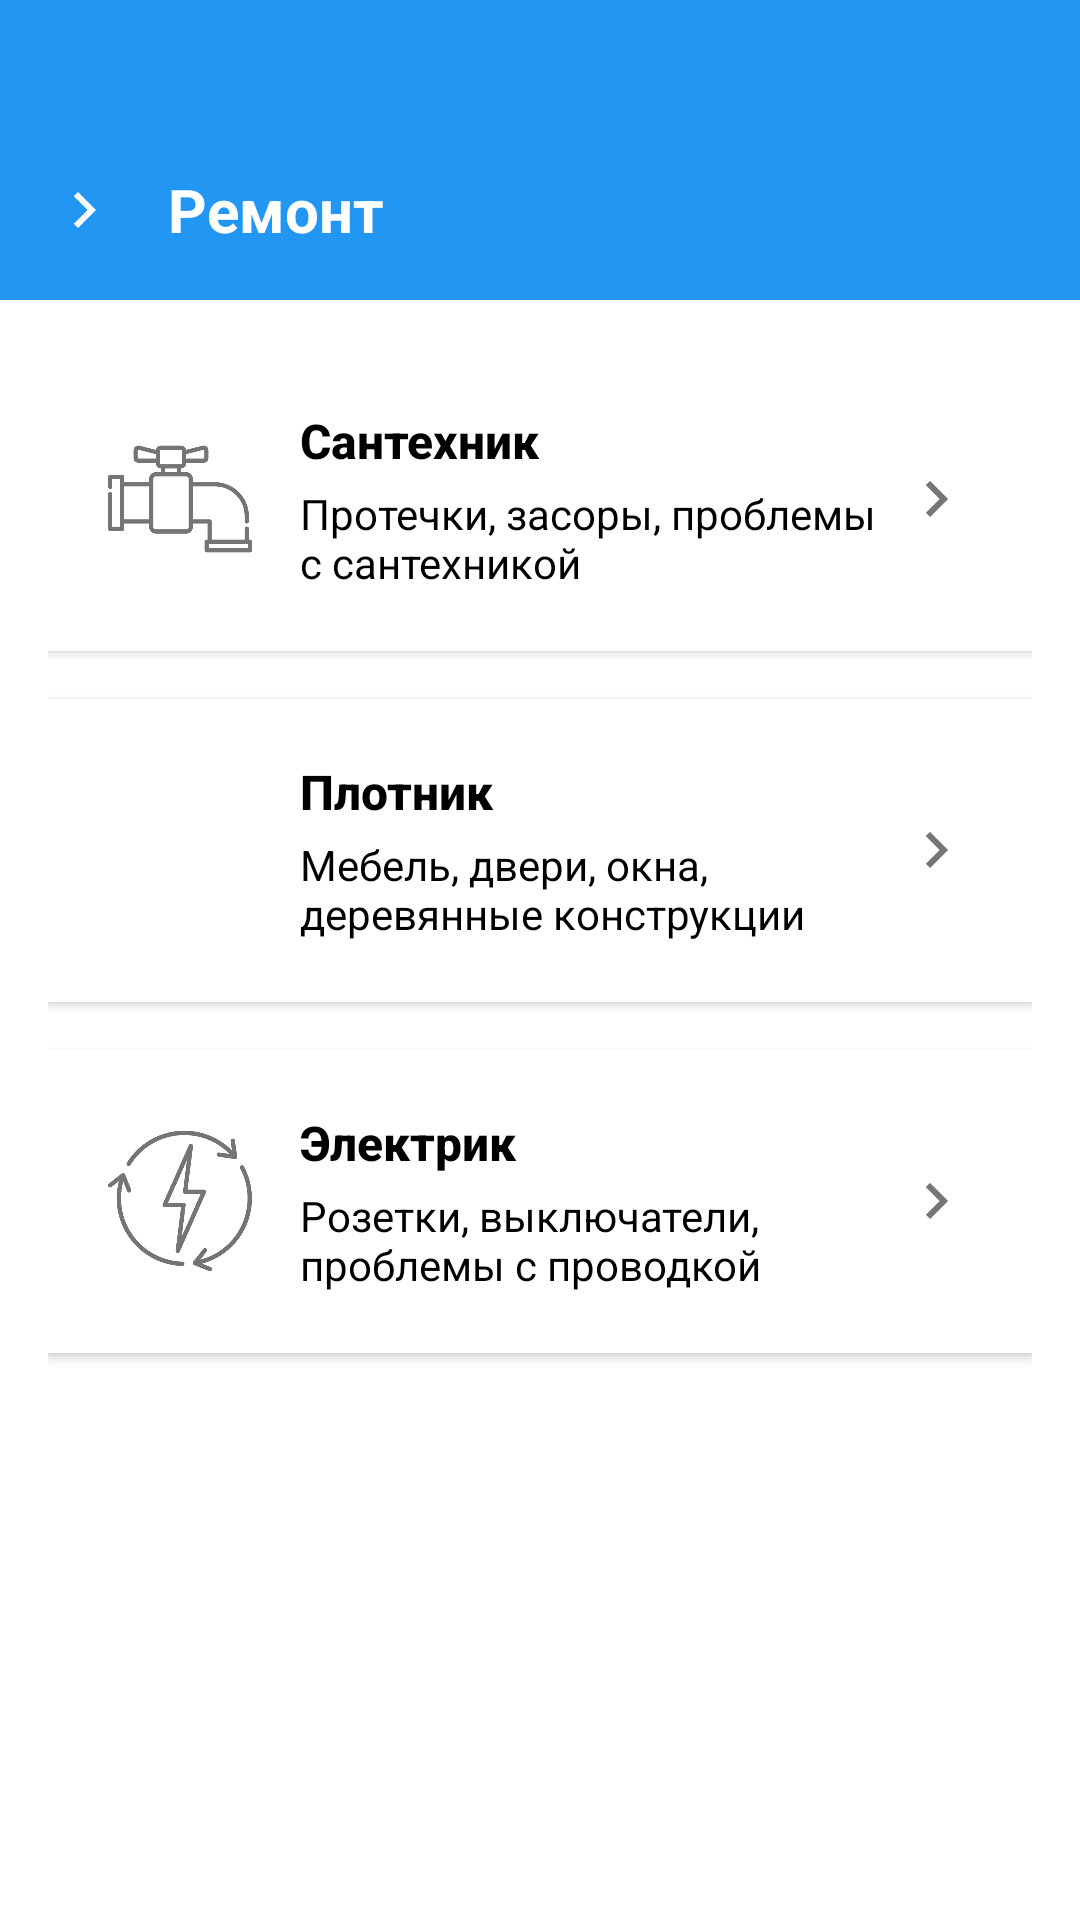

Icons on this 1080w x 1920h Android screen, each with its box as (x1, y1, x2, y2):
arrow right: (74, 192, 96, 228), (926, 481, 948, 517), (926, 832, 948, 868), (926, 1183, 948, 1219)
electrician: (108, 1131, 252, 1271)
plumber: (108, 445, 252, 553)
